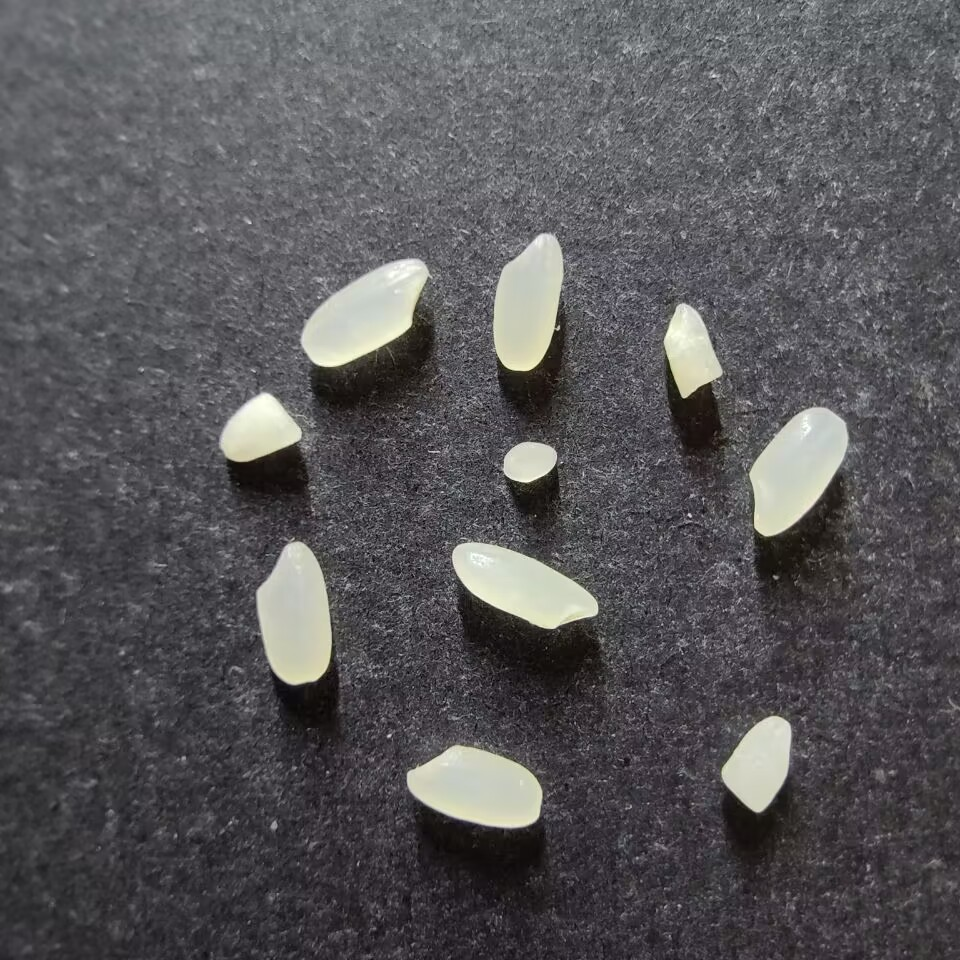broken: (720, 715, 791, 813), (662, 303, 723, 398), (219, 392, 301, 462), (502, 441, 557, 482)
rice: (300, 258, 428, 367), (748, 406, 848, 536), (451, 542, 598, 629), (405, 745, 542, 828), (255, 541, 332, 684), (492, 232, 562, 371)
